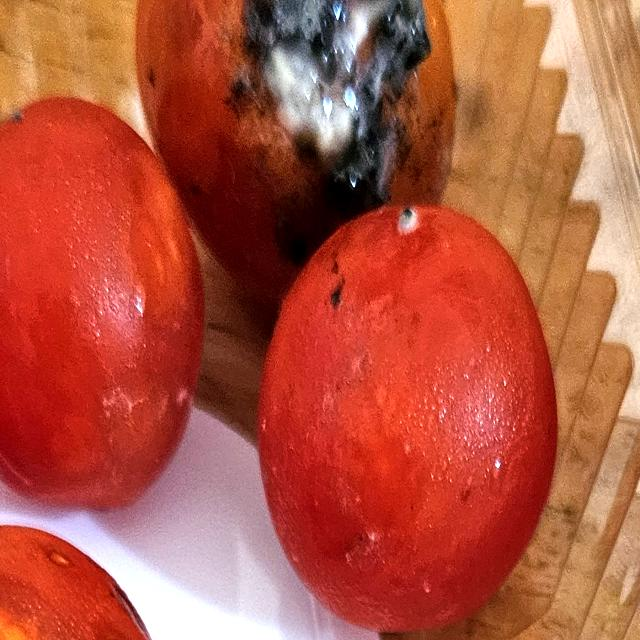rot_lvl2: (230, 0, 432, 157), (325, 249, 347, 313), (395, 207, 423, 237)
